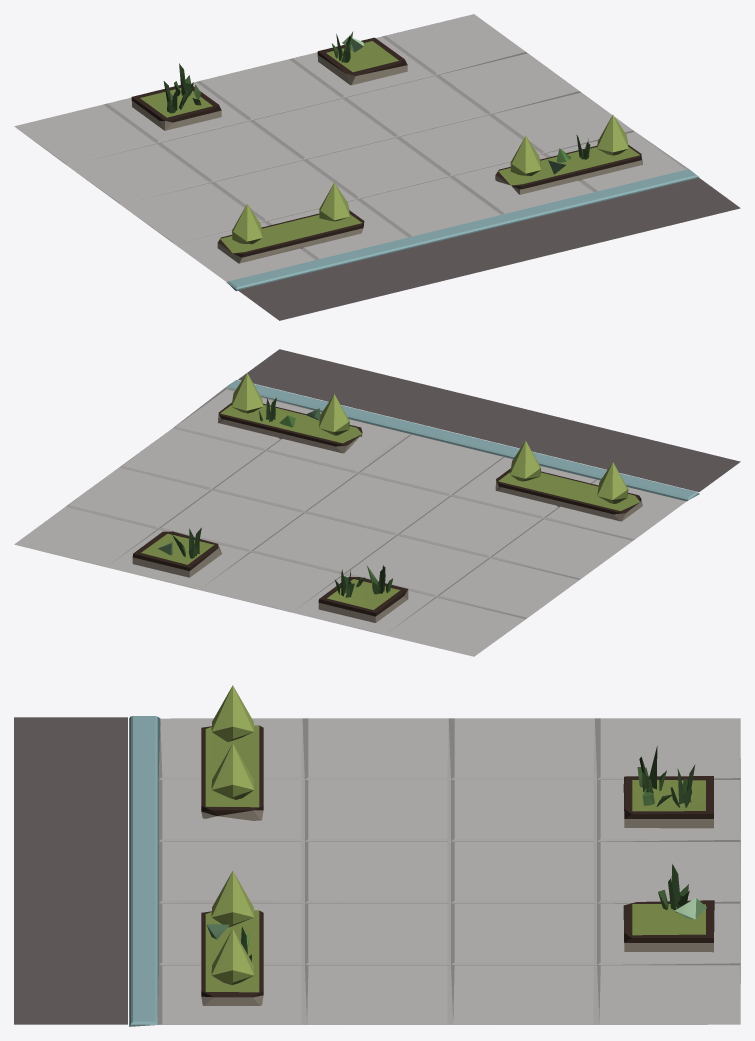
The model's file is QmYTFp63JyhKTsWDZ79t1QAGDrYvRH5ztZFDVWMbcNbBXT_lod2.fbx.
3 renders of one model, top to bottom at view 1: azimuth 30°, elevation 25°; view 2: azimuth 150°, elevation 25°; view 3: azimuth 270°, elevation 25°, orthographic. The views are drawn at different scales.
Visible parts, largest first — view 1: Entity_512; view 2: Entity_512; view 3: Entity_512.
Boxes of the visible parts, box(x1,y1,x2,y2) form: Entity_512: box(14, 14, 740, 320); Entity_512: box(14, 349, 740, 656); Entity_512: box(14, 685, 740, 1026).
Size of the model in its own units: 16000 by 1591 by 15918.
1 material, 1 textured.
